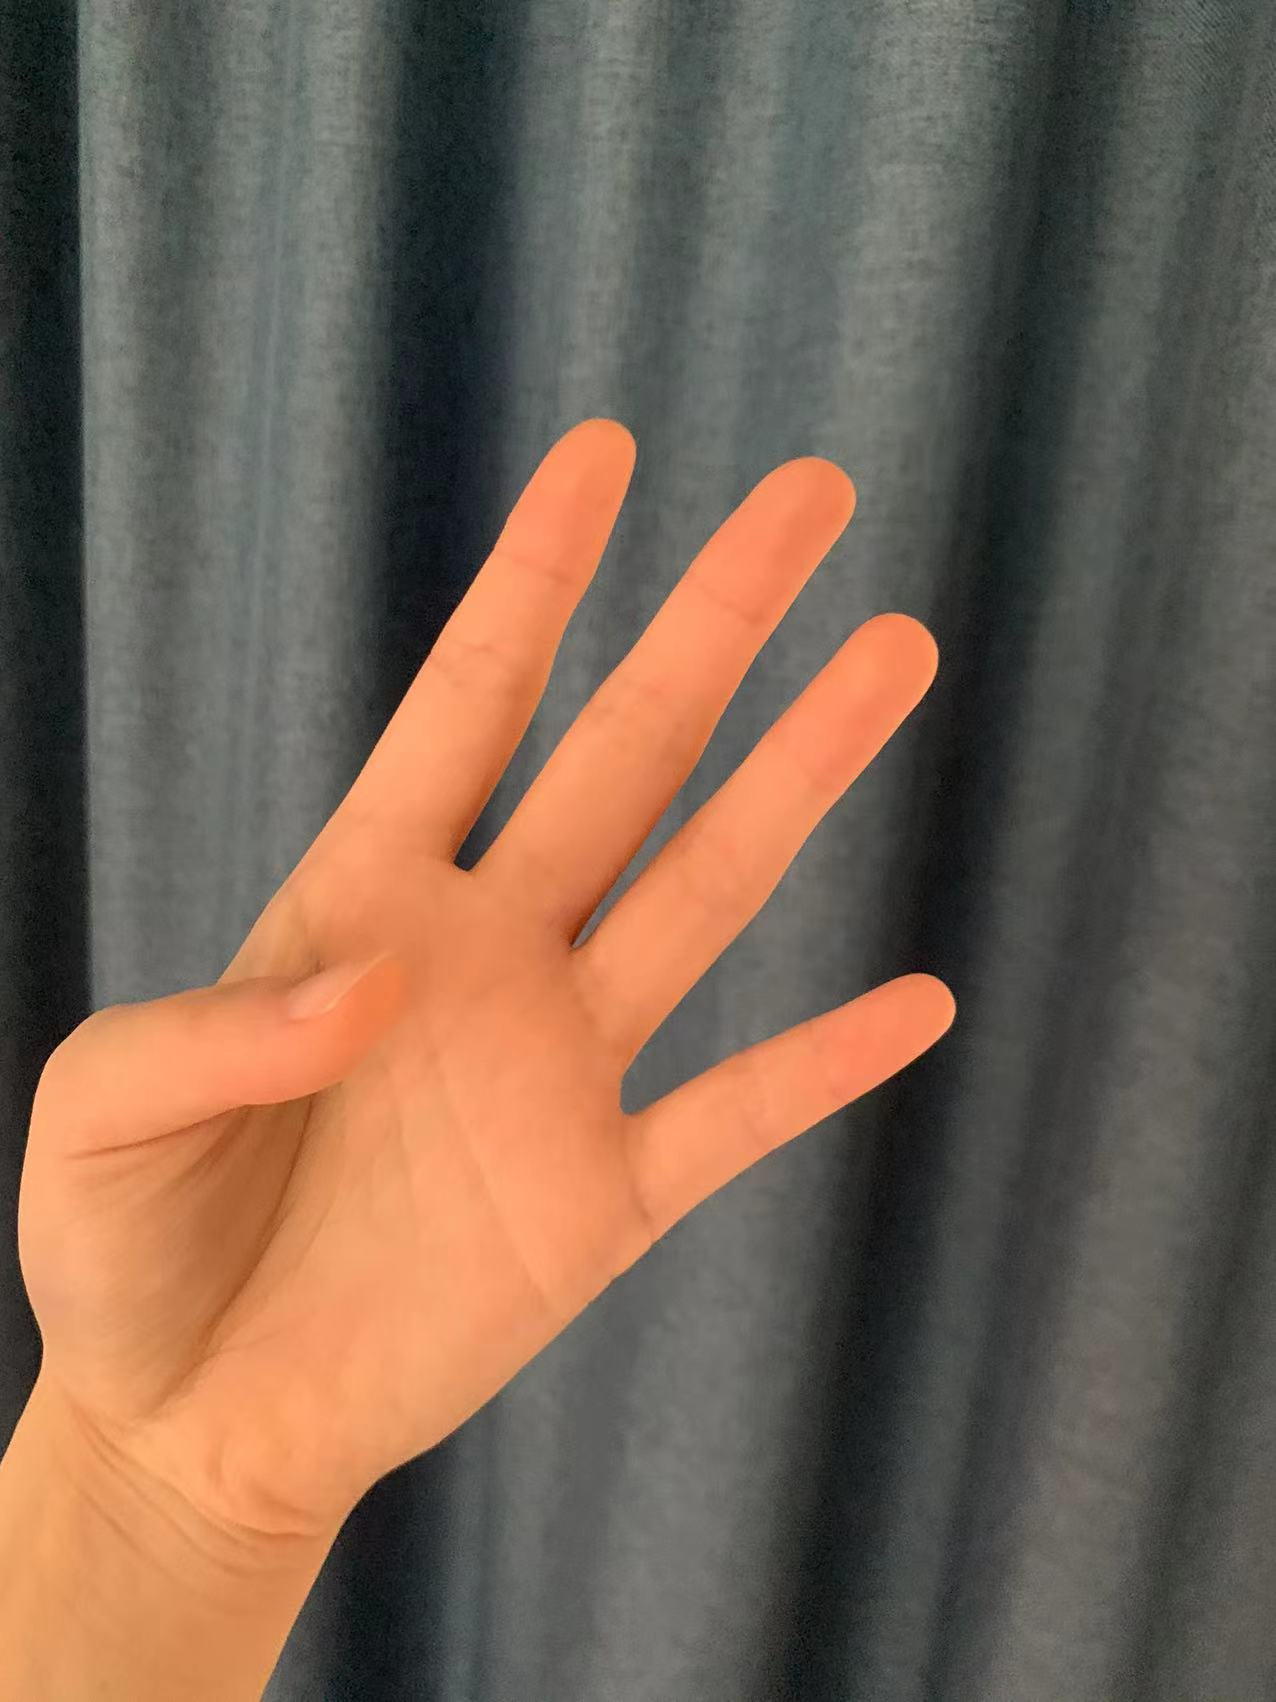right: (29, 405, 970, 1451)
